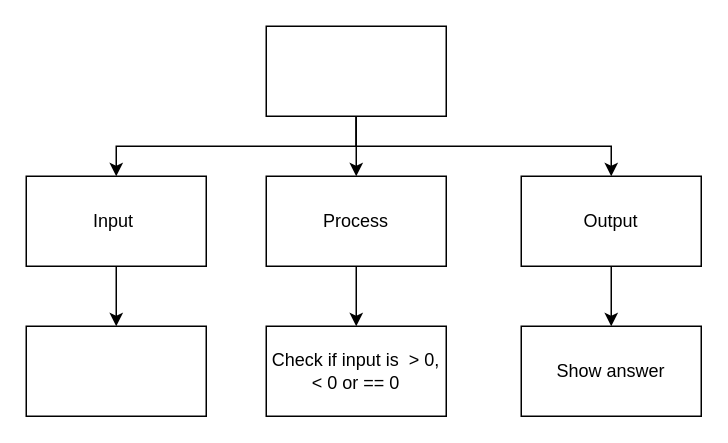
The diagram is 728 pixels wide and 443 high, and some of its shapes have lost their labels. The shapes that lost their labels are listed below. From the top down, each one's centre as x and y in pixels, then its label:
At point (355, 70): "Positive or negative integers".
At point (115, 370): "Get user input".
